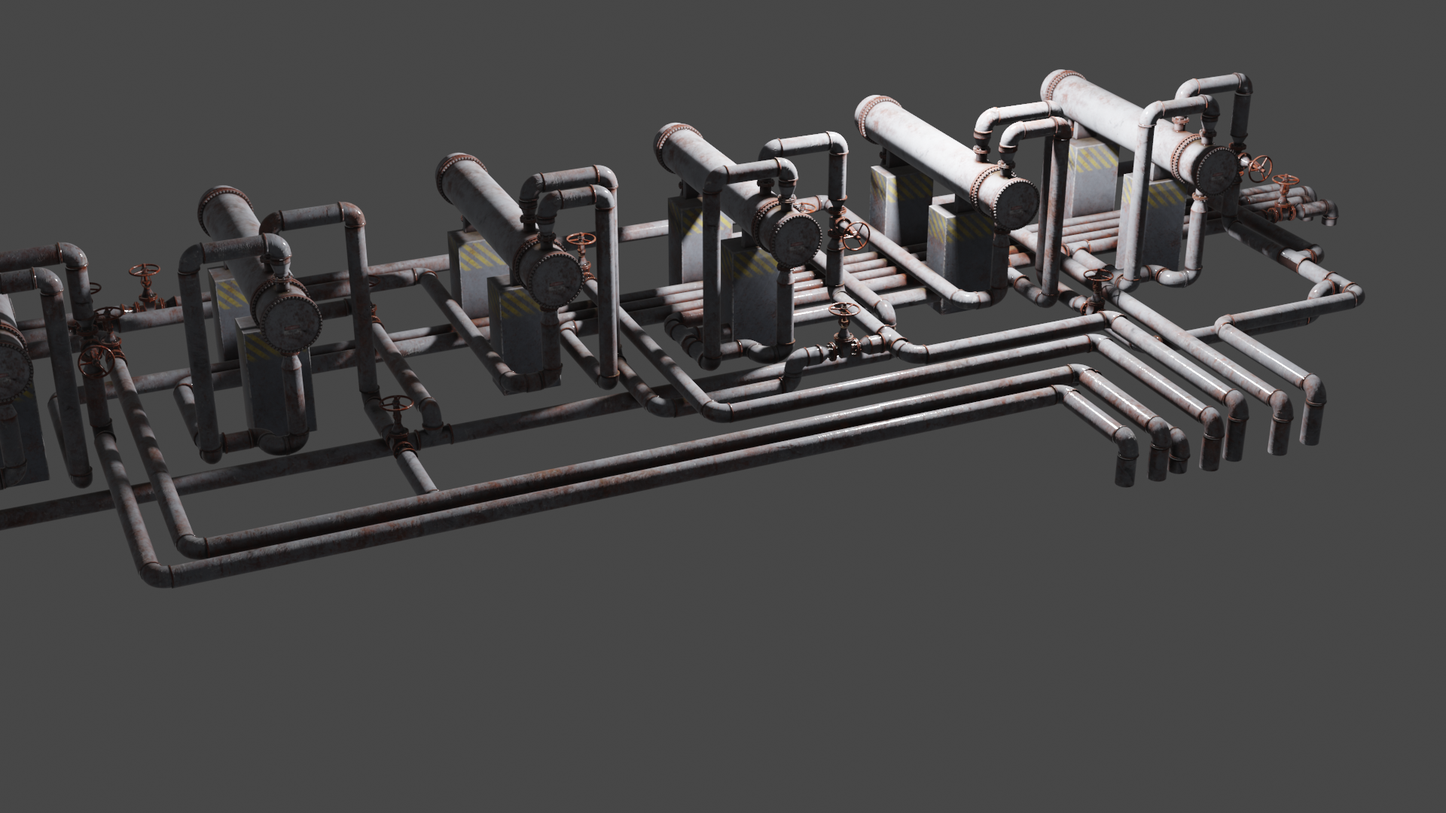HE_1: (1, 287, 31, 405)
HE_2: (196, 181, 317, 350)
HE_3: (434, 148, 578, 301)
HE_4: (651, 118, 819, 261)
HE_5: (851, 89, 1040, 226)
HE_6: (1040, 67, 1242, 194)
